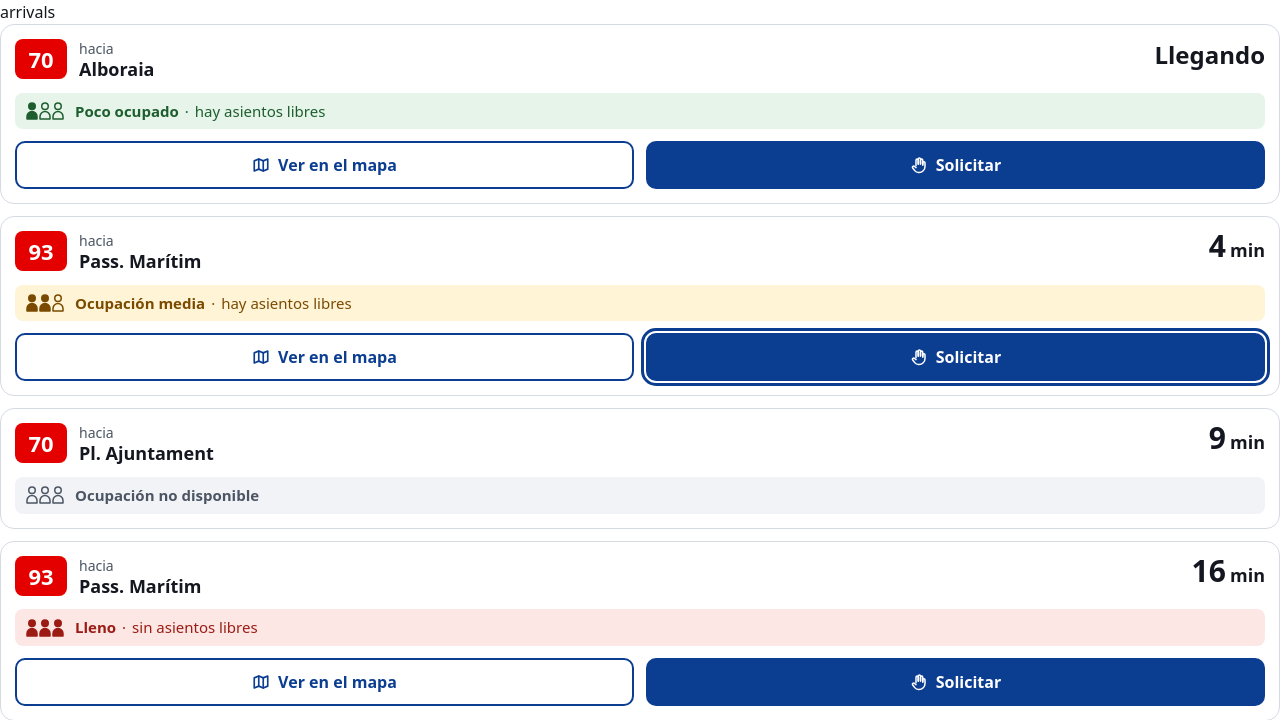
Test: RequestDialog › [passenger_alert_ui.AC-04] "Volver" closes without requesting and gives the focus back to "Solicitar"
Click the button named "Solicitar parada a la línea 93 hacia Passeig Marítim - Hospital Malva-rosa". click: (956, 357)
box: top-left (646, 333), bottom-right (1265, 381)
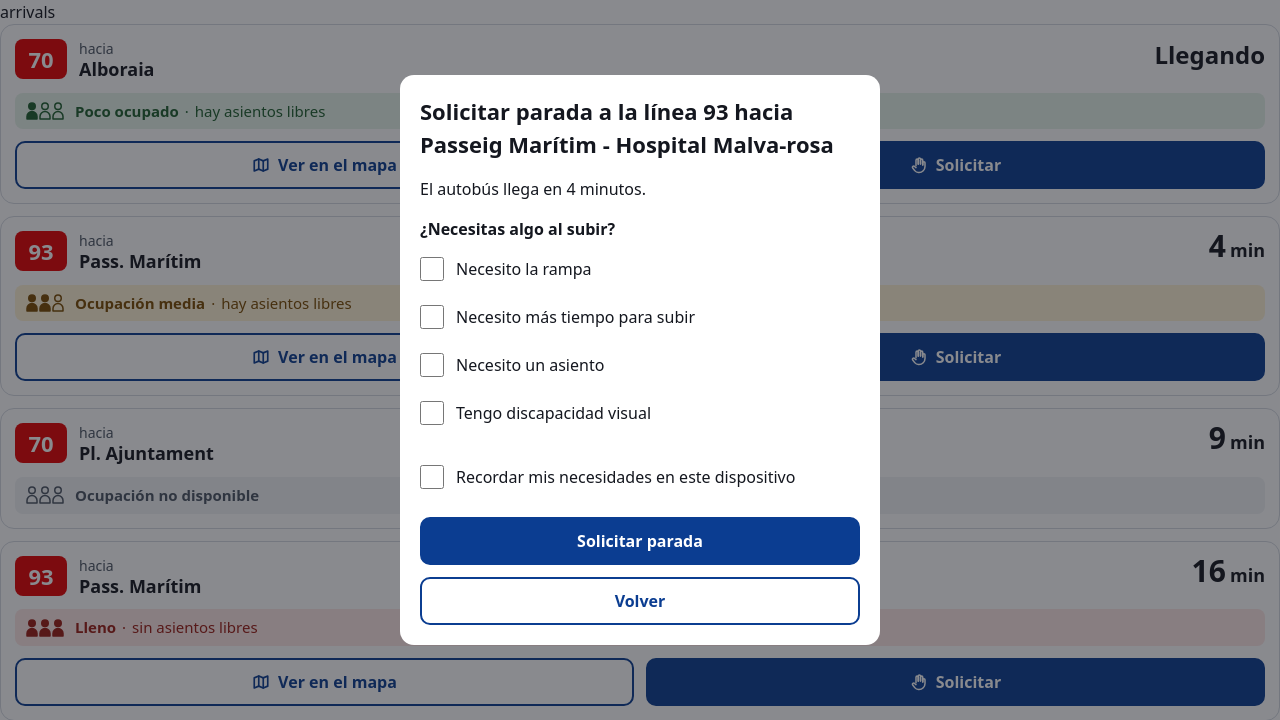
Click the button "Volver". click: (640, 601)
box: top-left (420, 577), bottom-right (860, 625)
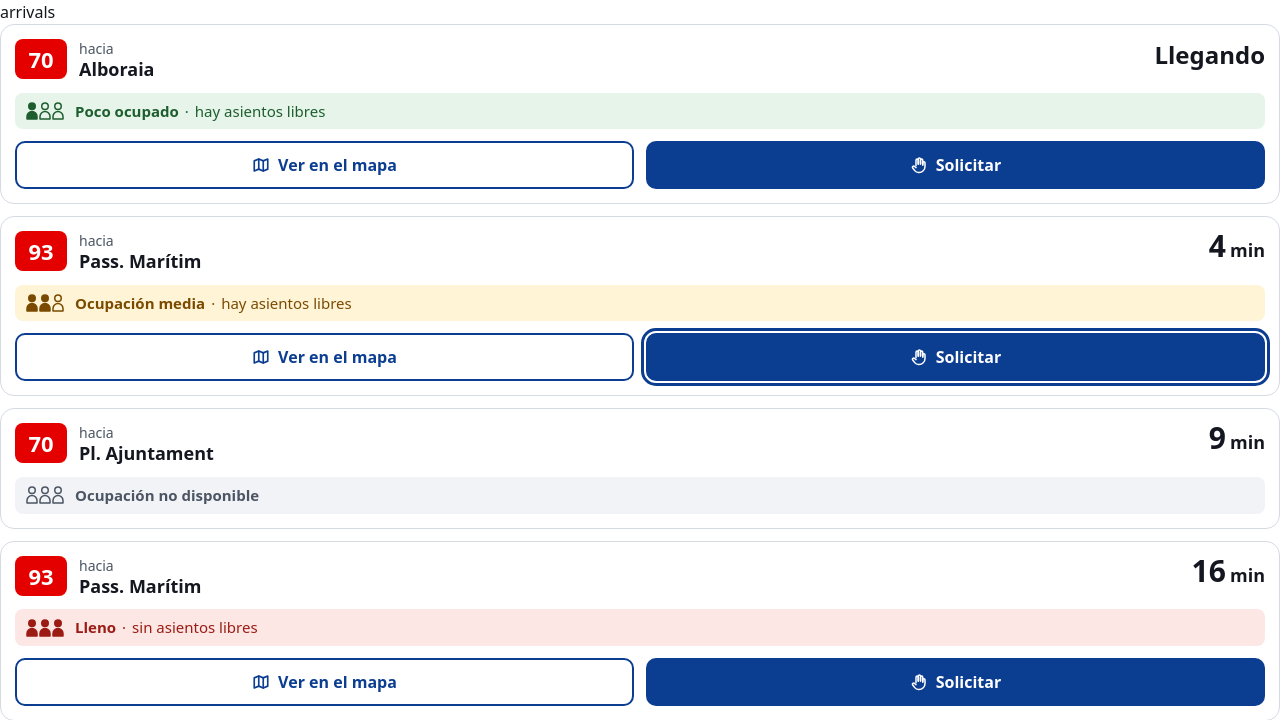
Check: the dialog is gone
